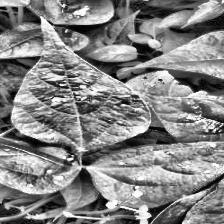Bean Rust: (11, 15, 151, 143), (88, 141, 224, 214), (146, 88, 224, 145), (0, 142, 84, 191)
